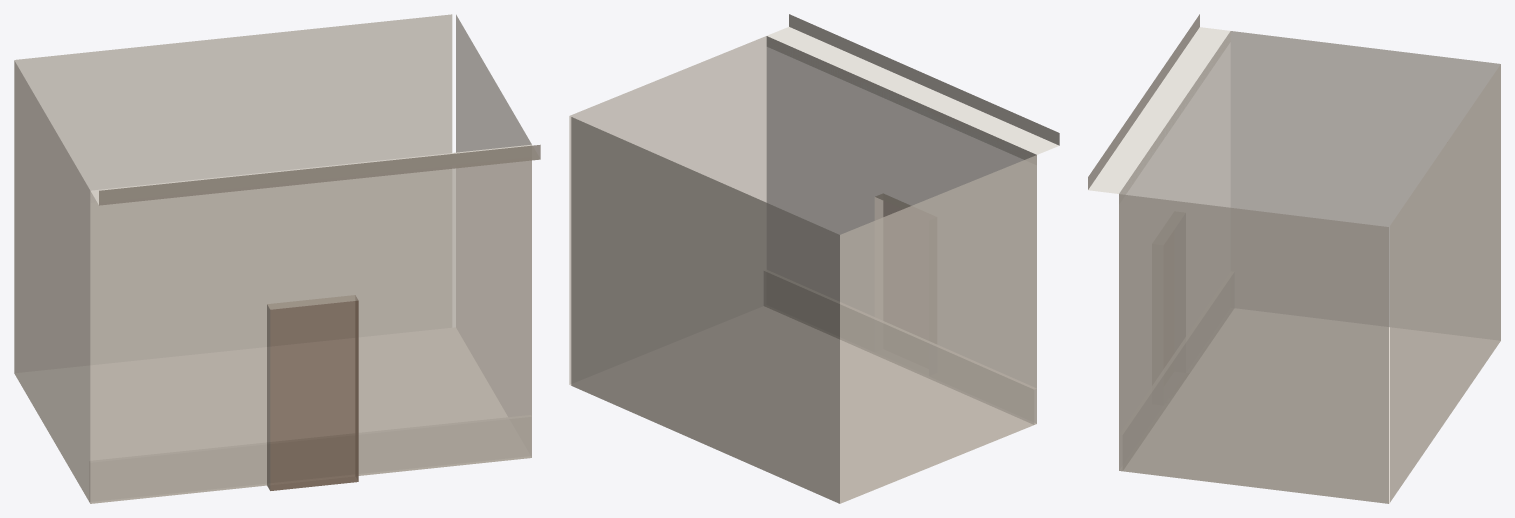
File: INT-N2.glb
3 renders of one model, left to right at view 1: azimuth 30°, elevation 25°; view 2: azimuth 150°, elevation 25°; view 3: azimuth 270°, elevation 25°, orthographic. The views are drawn at different scales.
Parts seen in each view (by area): view 1: INT-N2; view 2: INT-N2; view 3: INT-N2.
Part boxes in pixels (box(x1,y1,x2,y2)): INT-N2: box(14, 14, 540, 503); INT-N2: box(569, 14, 1059, 503); INT-N2: box(1088, 14, 1500, 503).
Size of the model in its own units: 5.89 by 3.98 by 5.14.
